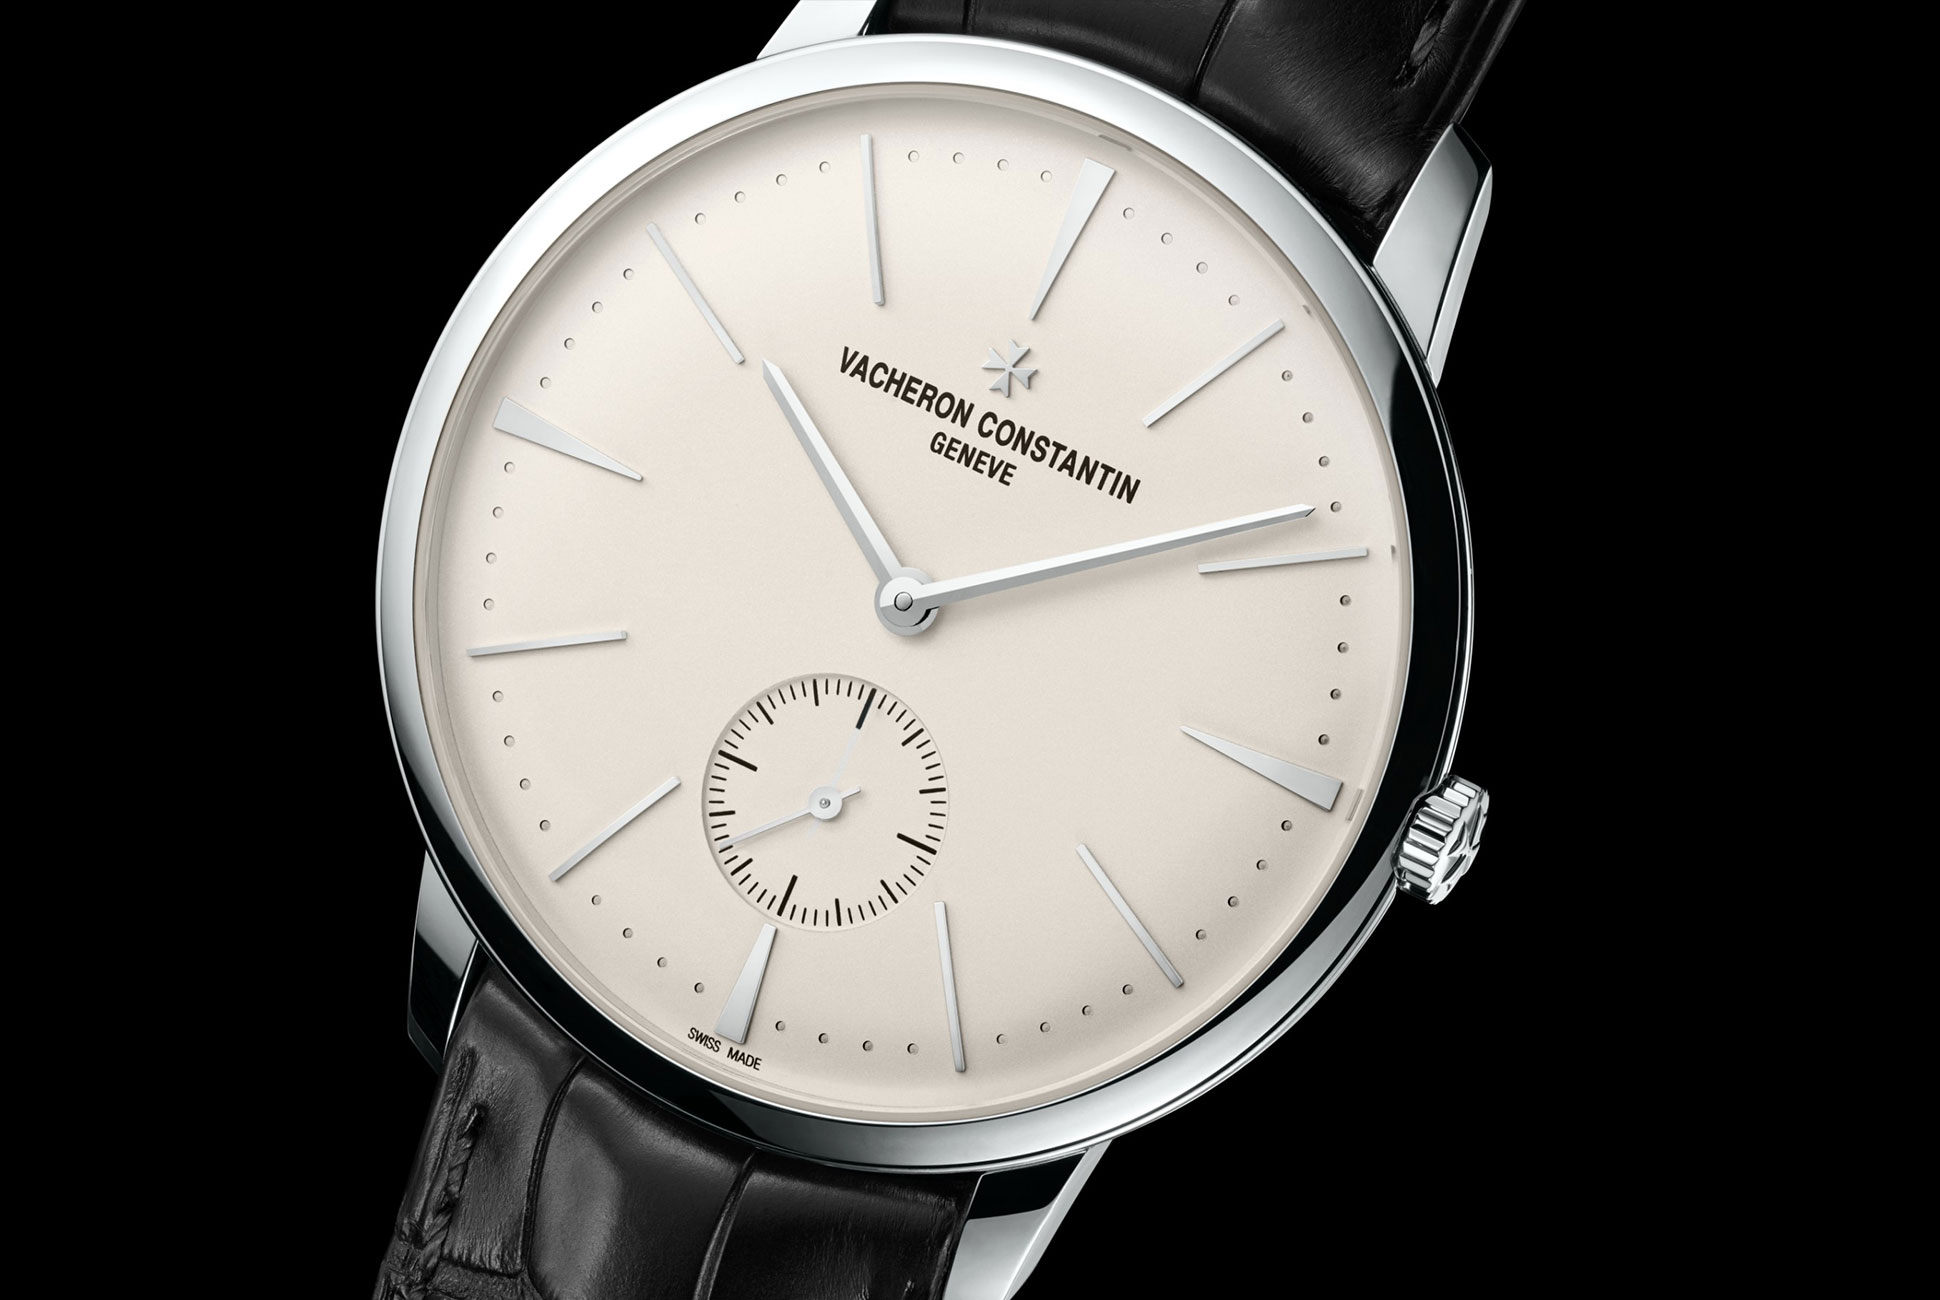clock: (367, 33, 1480, 1182)
